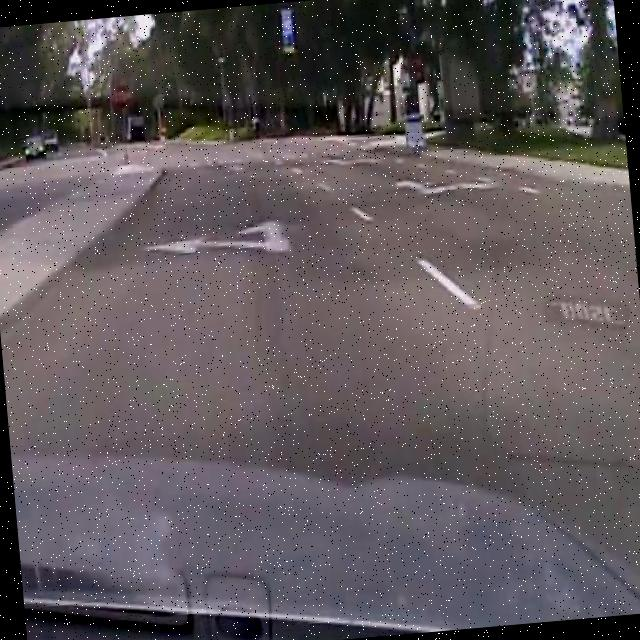Stop: (112, 82, 136, 111)
